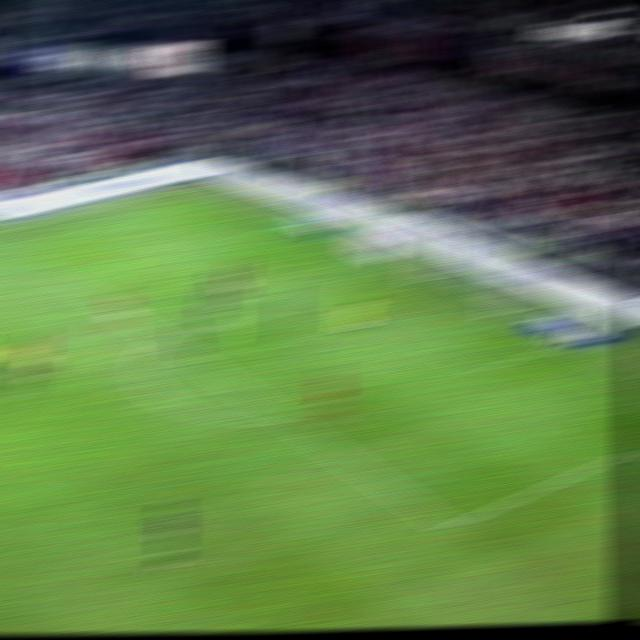bigarea_bottom_inner: (432, 512, 466, 539)
bigarea_top_inner: (59, 274, 84, 287)
bigarea_top_outter: (267, 220, 291, 227), (270, 221, 293, 227)
bottom_arc_area_intersection: (274, 412, 303, 430)
corner: (180, 184, 206, 188)
smallarea_bottom_inner: (469, 362, 496, 378)
smallarea_bottom_outter: (546, 338, 569, 348)
smallarea_top_inner: (288, 276, 313, 286)
top_arc_area_intersection: (147, 329, 172, 344)
